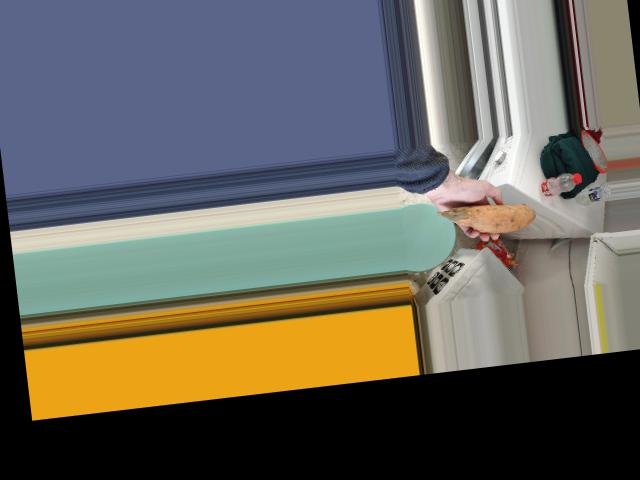sweet_potato: (447, 196, 527, 239)
